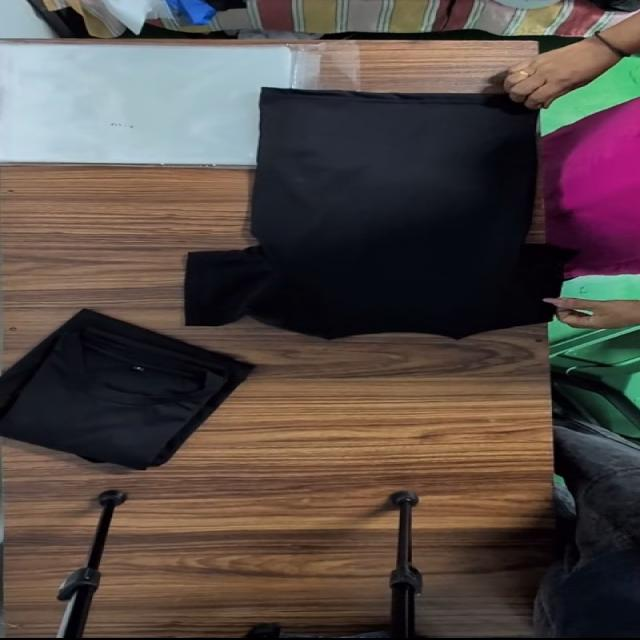new-garment: (184, 88, 564, 338)
